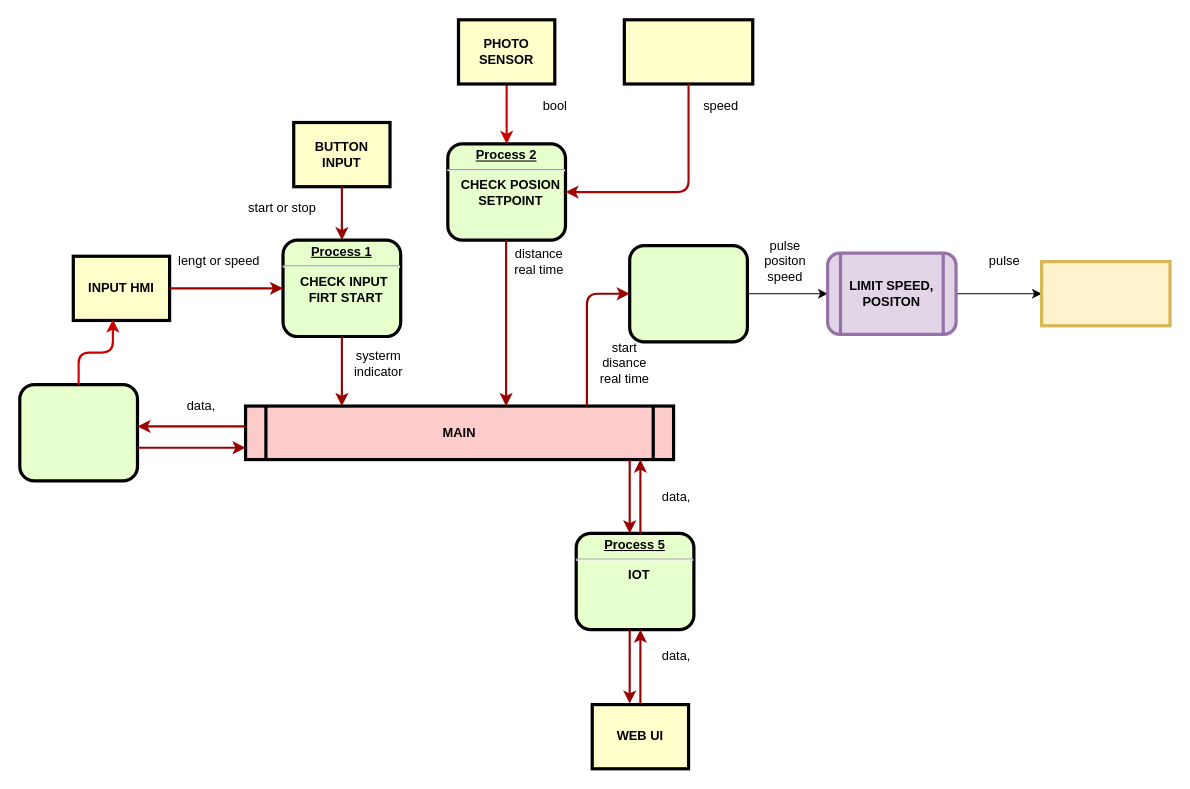
The diagram is 1190 pixels wide and 789 high, and some of its shapes have lost their labels. The shapes that lost their labels are listed below. From the top down, each one's box as (x1, y1, x2, y2) in pixels, then its label:
(622, 18, 754, 85): ENCODER CONVEYER
(628, 243, 748, 343): Process 4 CONTROL STEP MOTOR
(1040, 259, 1171, 327): DRIVE, STEP MOTOR
(18, 383, 139, 482): Process 3 SHOW HMI
